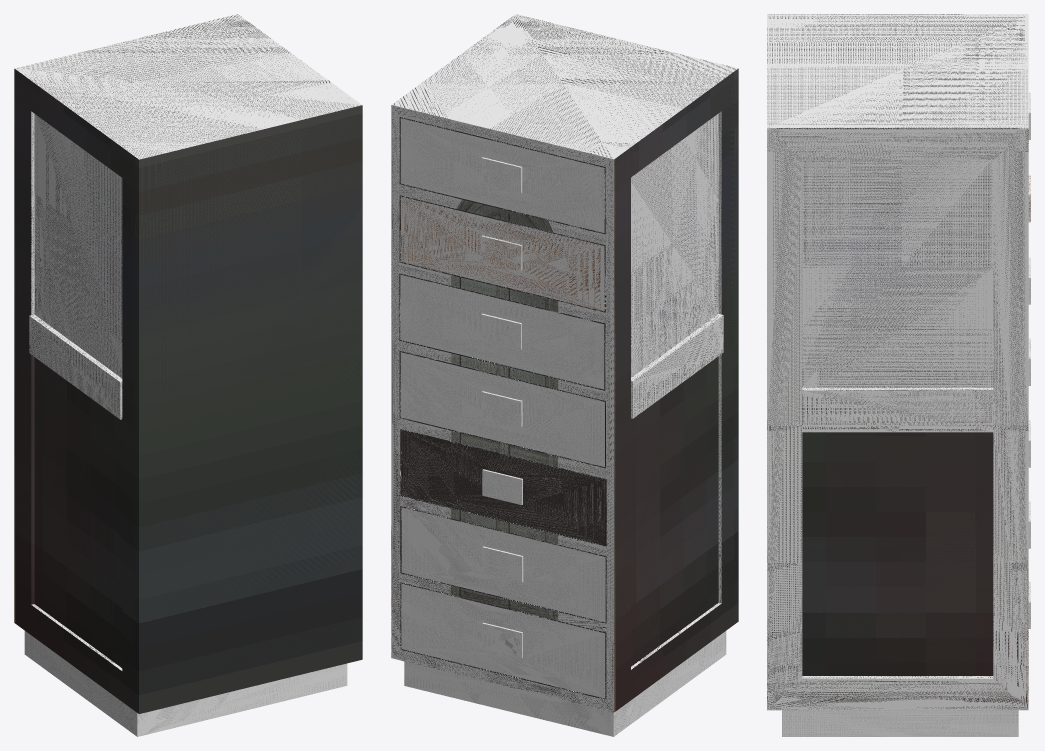
The picture shows the model from 3 angles, left to right: view 1: azimuth 30°, elevation 25°; view 2: azimuth 150°, elevation 25°; view 3: azimuth 270°, elevation 25°; orthographic projection. The views are drawn at different scales.
Parts seen in each view (by area): view 1: mesh1_mesh1-geometry; view 2: mesh1_mesh1-geometry; view 3: mesh1_mesh1-geometry.
Part boxes in pixels (x1,y1,x2,y2): mesh1_mesh1-geometry: (14,14,362,736); mesh1_mesh1-geometry: (391,14,738,736); mesh1_mesh1-geometry: (767,14,1030,736).
Size of the model in its own units: 0.3522 by 0.8719 by 0.3403.
